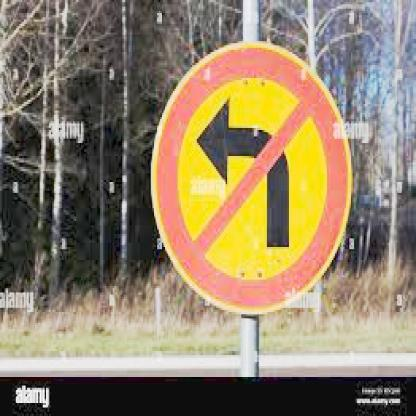No left turn: (145, 39, 349, 318)
